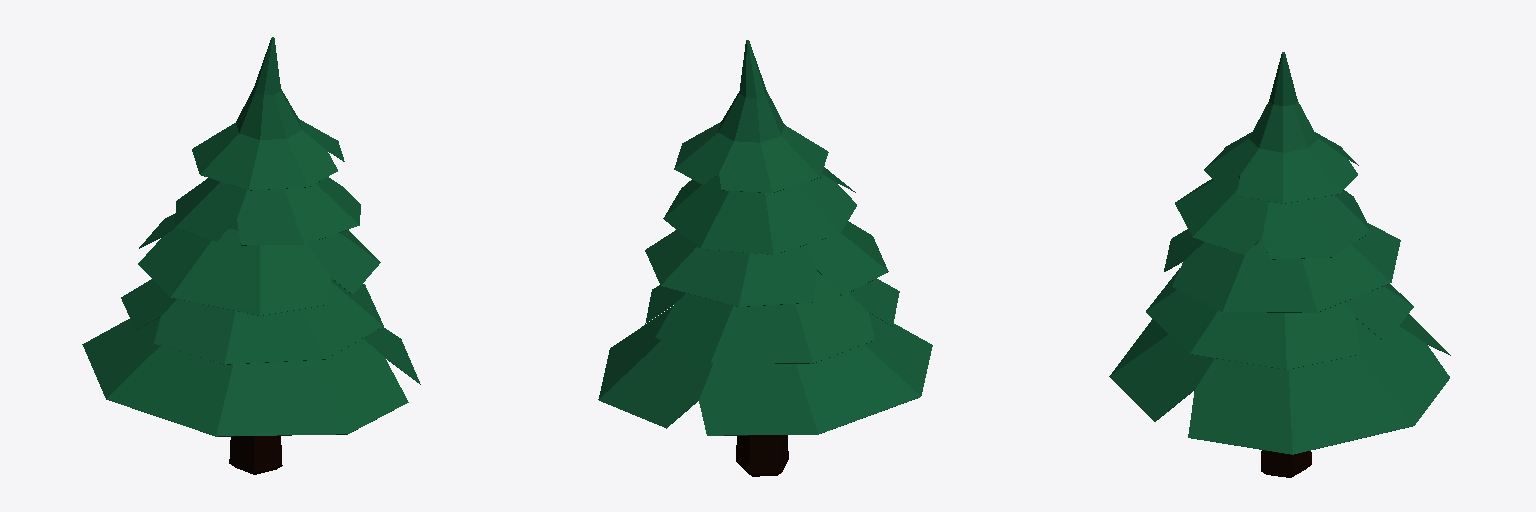
Rendered from tree_lvl_22.obj.
3 renders of one model, left to right at view 1: azimuth 30°, elevation 25°; view 2: azimuth 150°, elevation 25°; view 3: azimuth 270°, elevation 25°, orthographic.
Bounding box in the file's own units: 6.72 × 8.99 × 6.55.